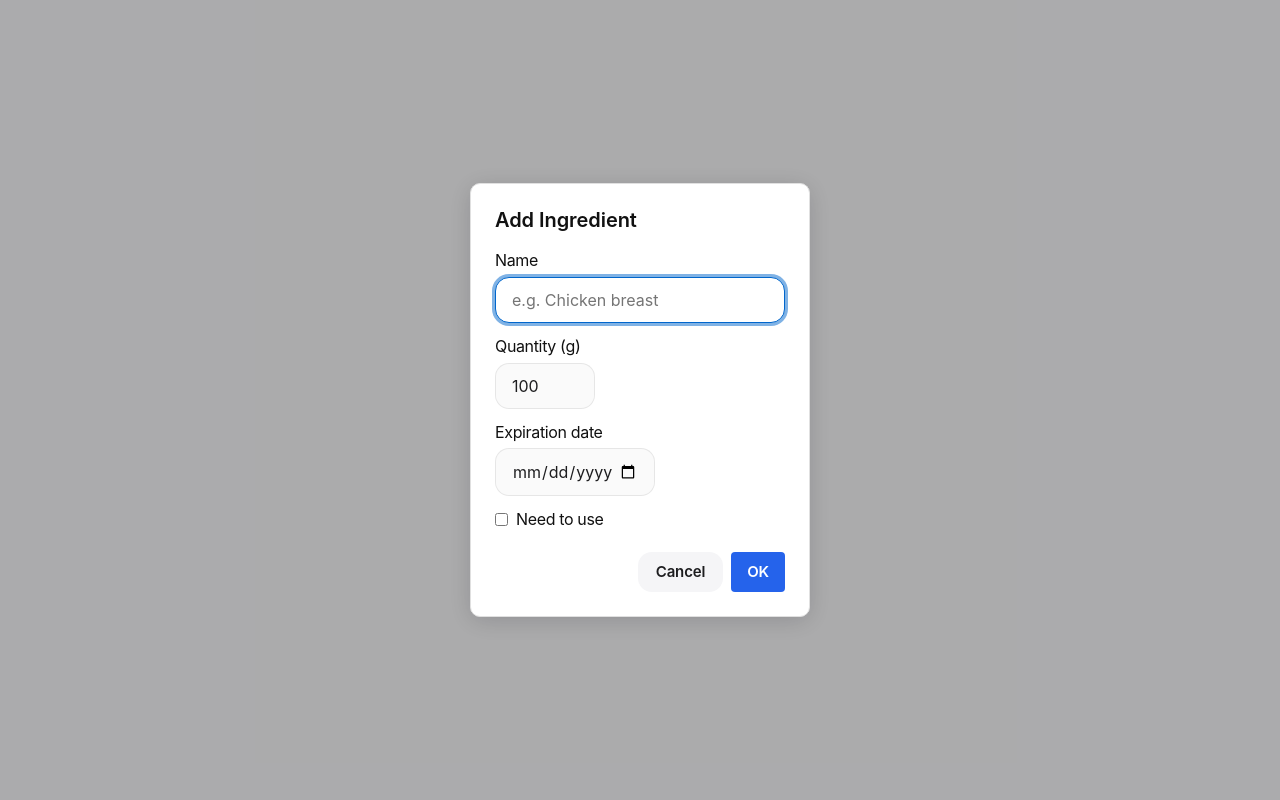
Test: FridgeItemModal › blocks submit and shows error when quantity is empty
The image size is (1280, 800).
Type "Milk" into the field with placeholder "e.g. Chicken breast".
click(640, 300); type("Milk")  # box [495,277,785,323]
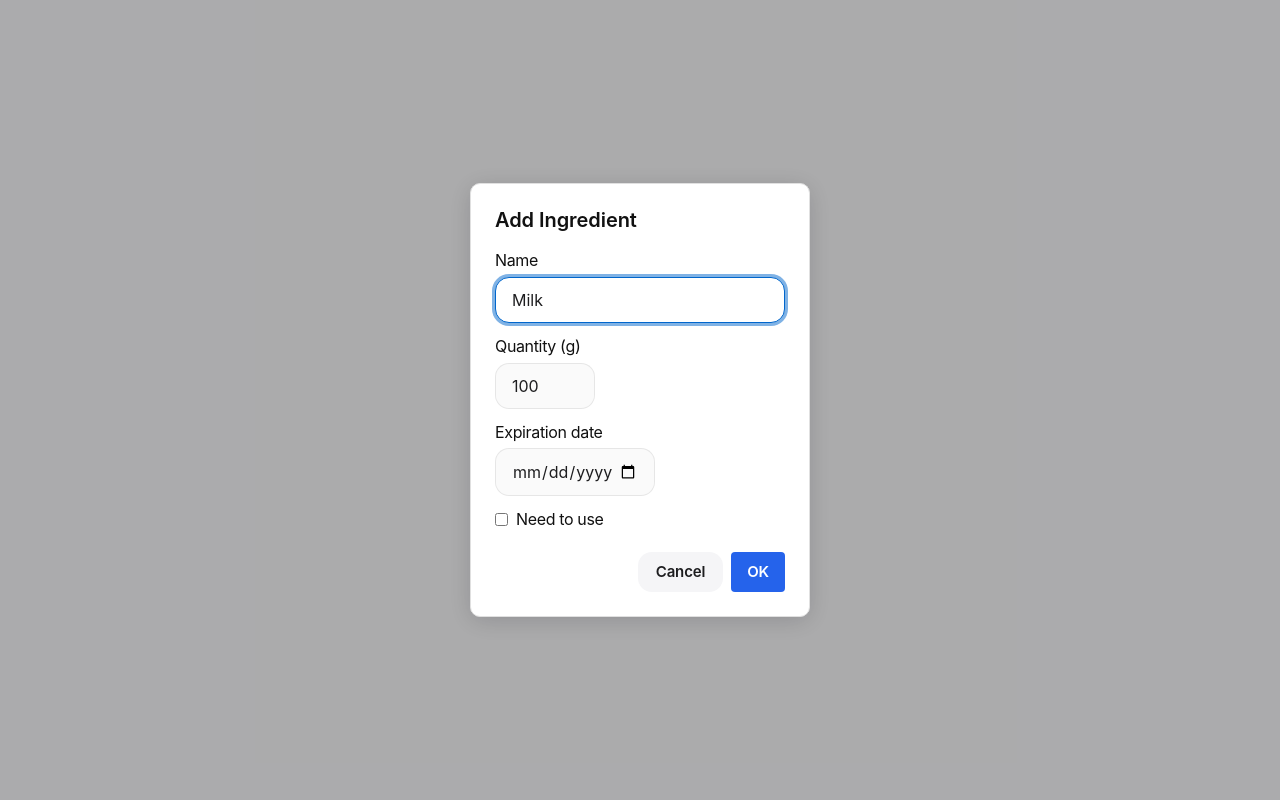
Clear the field showing "100" at point(545, 386), box [495,362,595,408]
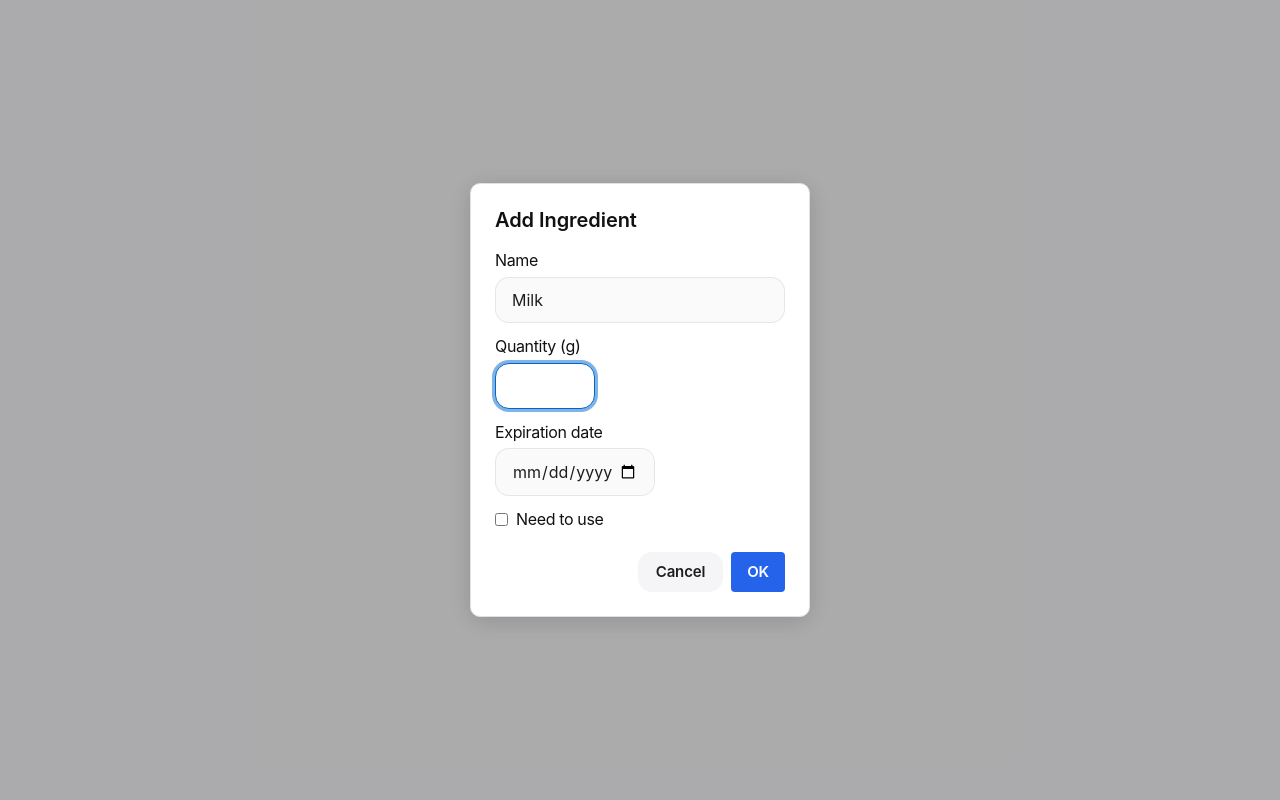
Click the button "OK".
click(758, 572)  # box [731,552,785,592]
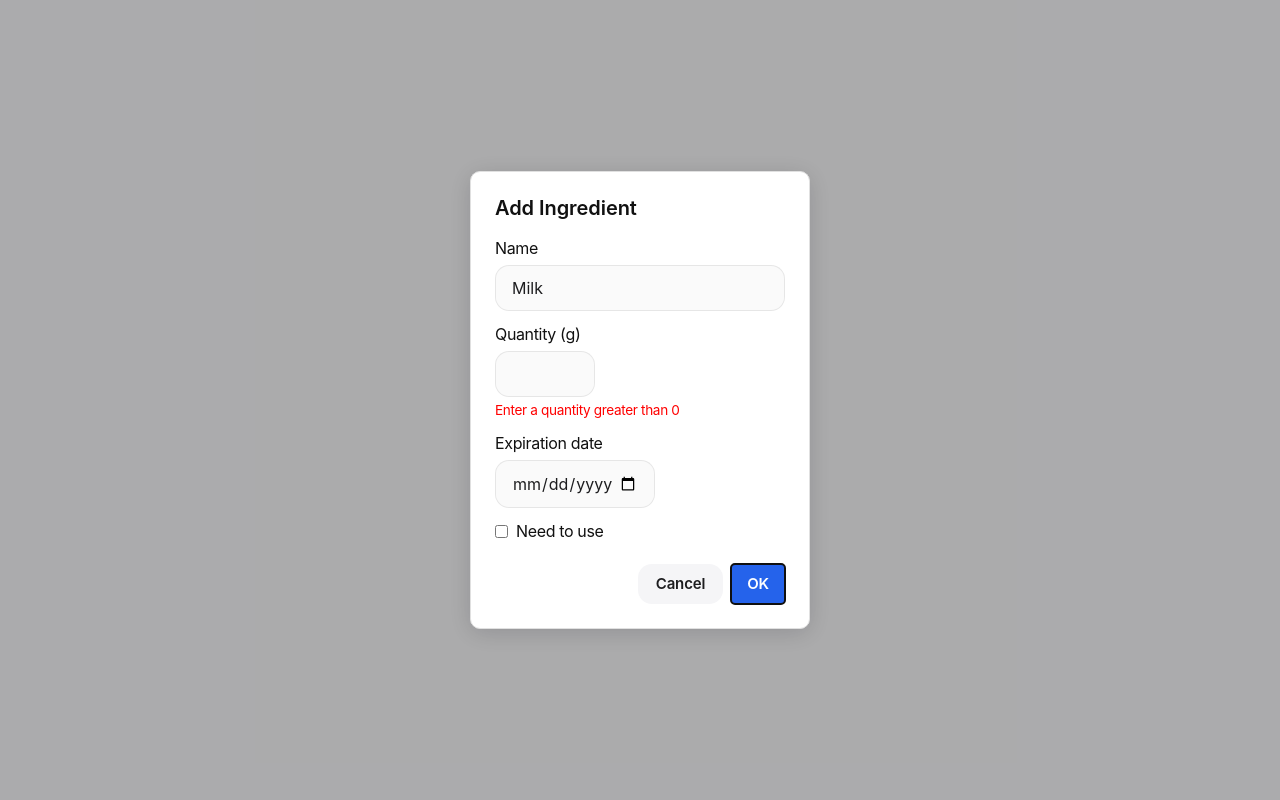
Result: the text "Enter a quantity greater than 0" is shown at [495,402,680,418]
